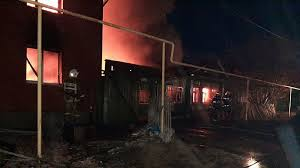fire: (139, 63, 228, 117), (25, 37, 70, 86)
